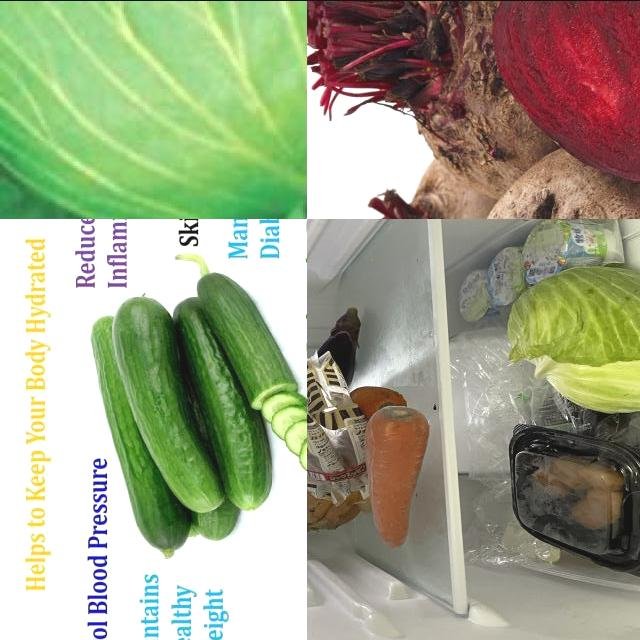beet: (308, 1, 610, 175), (497, 1, 640, 175), (360, 145, 510, 219)
cabbage: (1, 1, 308, 219), (506, 265, 640, 414)
carrot: (367, 403, 431, 546), (355, 385, 410, 417)
cucumber: (91, 313, 193, 556), (115, 294, 226, 514), (175, 298, 273, 516), (199, 272, 299, 415), (274, 408, 308, 441), (285, 421, 308, 453)
eggplant: (316, 306, 362, 390)
onion: (308, 460, 362, 540)
